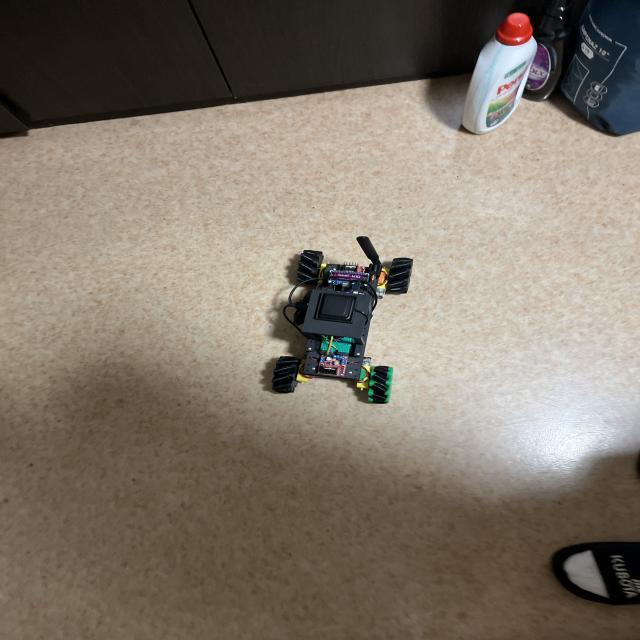robot: (272, 236, 412, 403)
